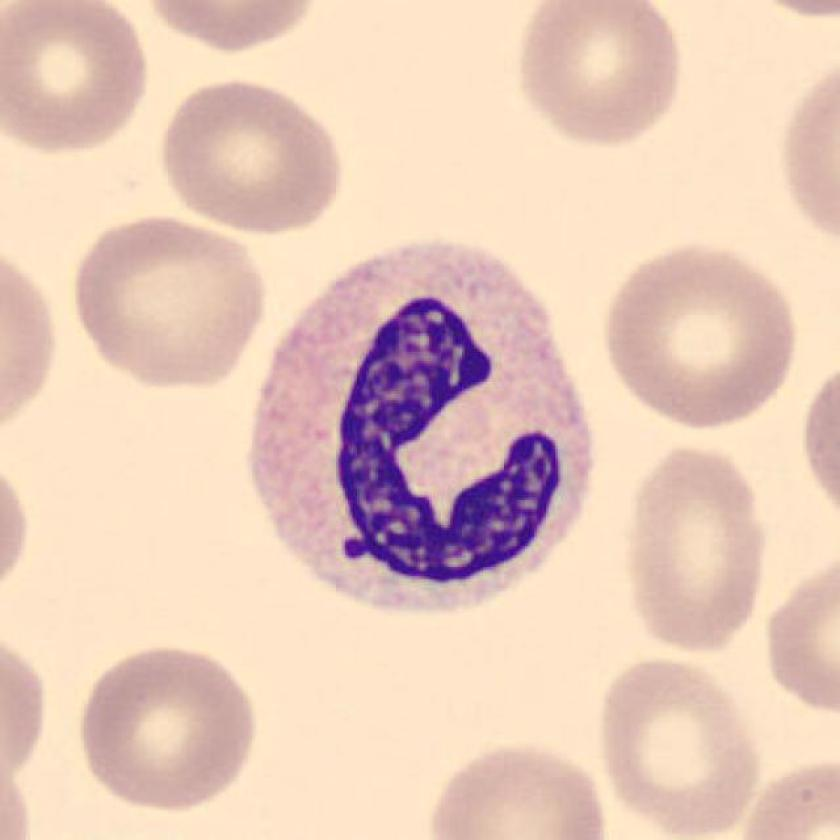neutrophil: (251, 244, 599, 613)
